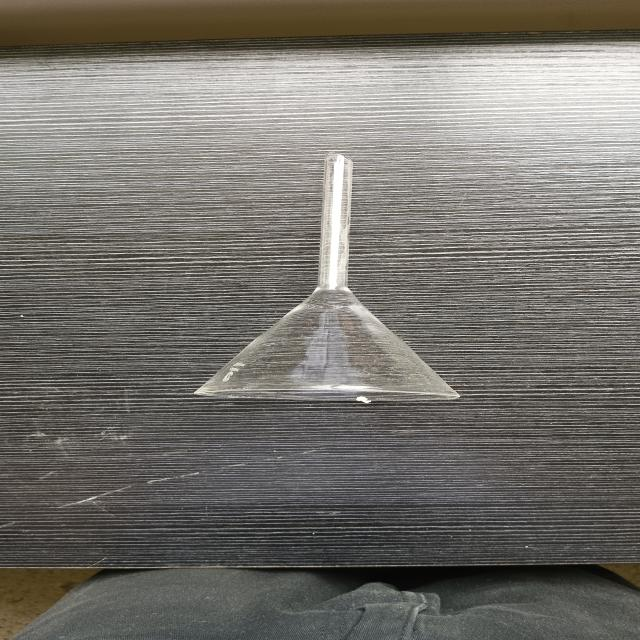funnel: (180, 146, 458, 419)
